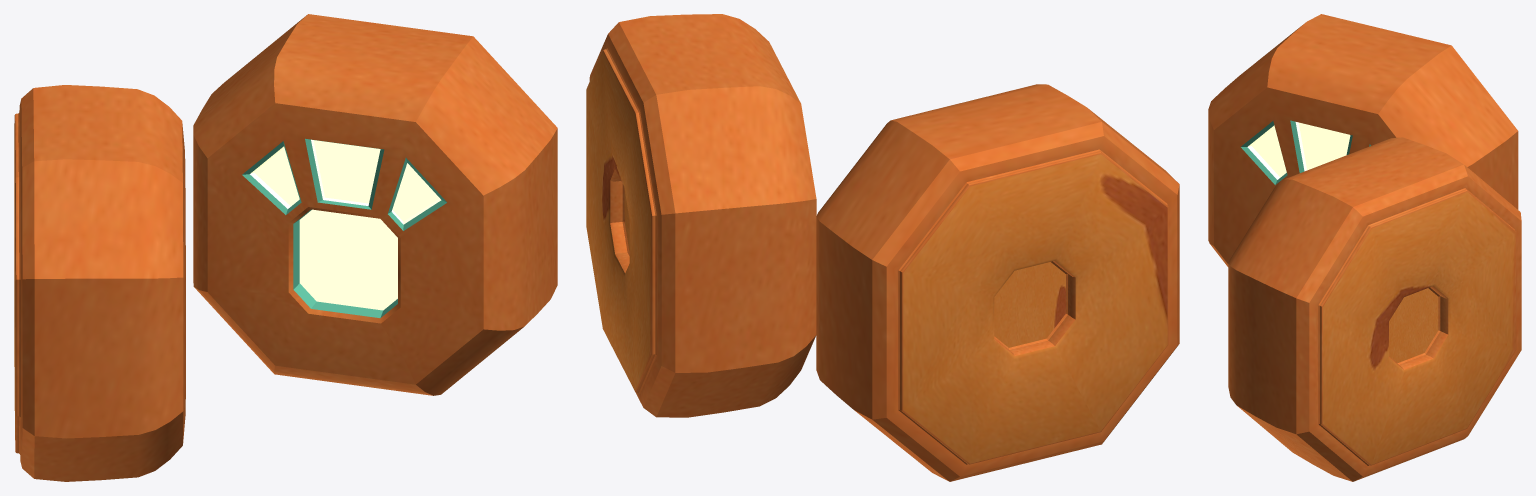
Rendered from cenouraACT.fbx.
3 views of the same model, side by side, from view 1: azimuth 30°, elevation 25°; view 2: azimuth 150°, elevation 25°; view 3: azimuth 270°, elevation 25° (orthographic). The views are drawn at different scales.
Visible parts, largest first — view 1: PatasA, PatasB; view 2: PatasB, PatasA; view 3: PatasA, PatasB.
Part boxes in pixels (x1=…): PatasA: x1=193, y1=14, x2=557, y2=395; PatasB: x1=14, y1=85, x2=185, y2=481; PatasB: x1=816, y1=84, x2=1179, y2=481; PatasA: x1=586, y1=14, x2=816, y2=417; PatasA: x1=1228, y1=137, x2=1521, y2=481; PatasB: x1=1208, y1=14, x2=1518, y2=266.
Bounding box in the file's own units: 10.97 × 6.1 × 6.21.
